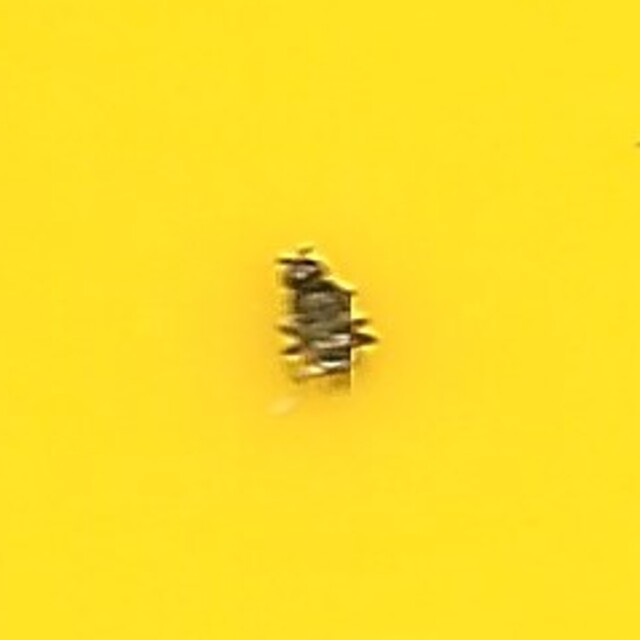Brachycera: (268, 243, 372, 397)
